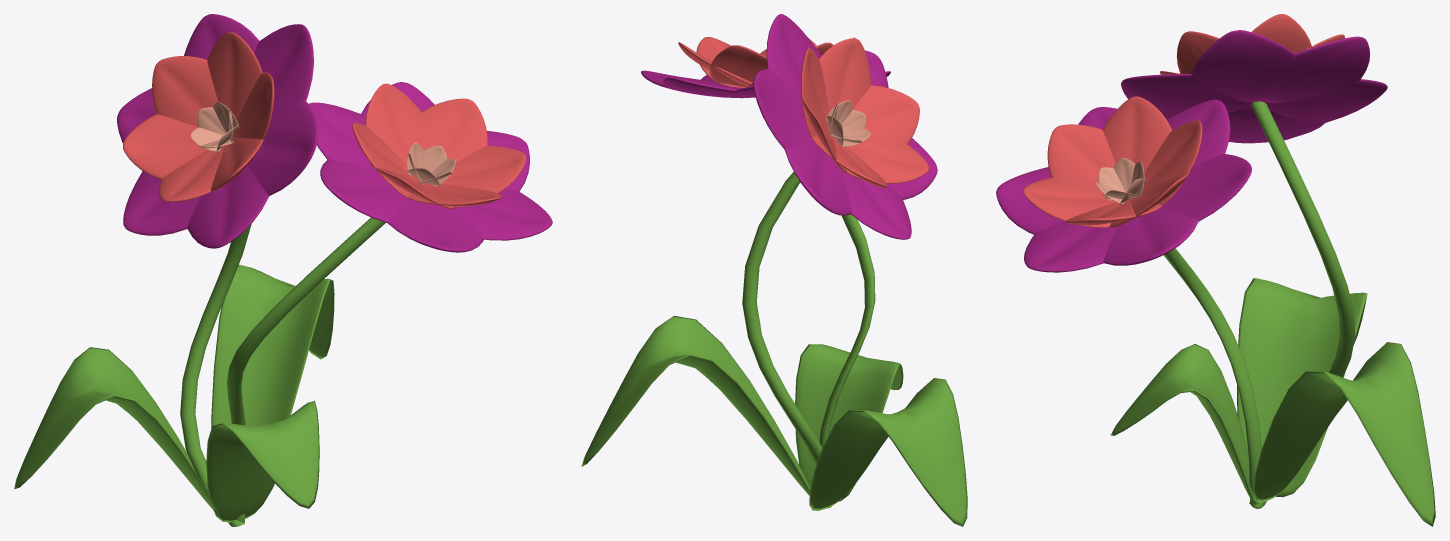
File: flower8.glb
3 views of the same model, side by side, from view 1: azimuth 30°, elevation 25°; view 2: azimuth 150°, elevation 25°; view 3: azimuth 270°, elevation 25° (orthographic). The views are drawn at different scales.
Parts seen in each view (by area): view 1: flower, Plane, flower.001, BézierCurve, BézierCurve.001; view 2: Plane, flower, BézierCurve, flower.001, BézierCurve.001; view 3: Plane, flower.001, flower, BézierCurve, BézierCurve.001.
Boxes of the visible parts, <box> form: flower: <box>117,14,318,248</box>; Plane: <box>14,264,334,522</box>; flower.001: <box>309,82,552,252</box>; BézierCurve: <box>180,224,251,526</box>; BézierCurve.001: <box>227,217,385,524</box>; Plane: <box>581,316,967,526</box>; flower: <box>753,14,937,239</box>; BézierCurve: <box>742,172,831,508</box>; flower.001: <box>641,37,890,98</box>; BézierCurve.001: <box>819,214,875,447</box>; Plane: <box>1110,278,1435,526</box>; flower.001: <box>996,96,1251,272</box>; flower: <box>1121,14,1387,143</box>; BézierCurve: <box>1249,101,1355,506</box>; BézierCurve.001: <box>1163,248,1262,508</box>.
Bounding box in the file's own units: 0.3324 × 0.3697 × 0.2915.
